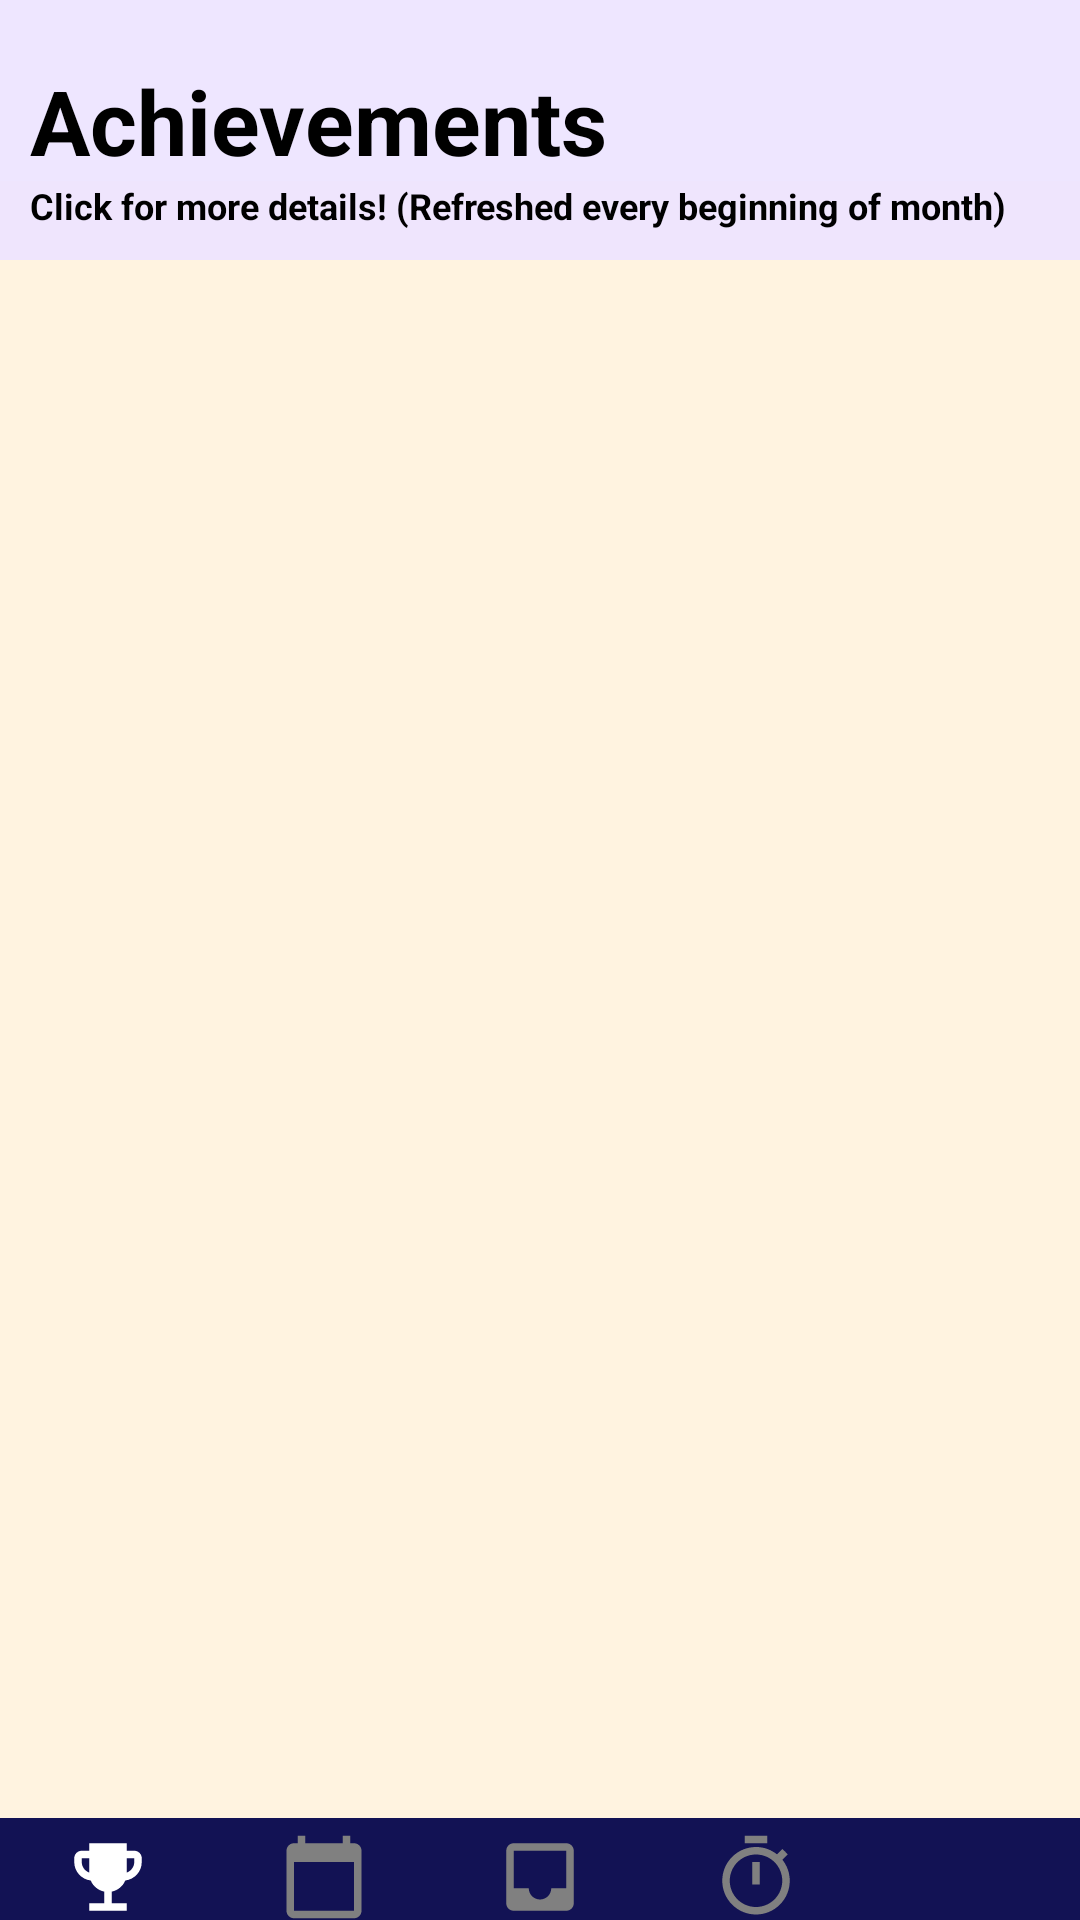

Icons on this 1080 × 1920 Android screen, each with the point to tap as point (x, y):
box: point (540, 1877)
calendar: point (324, 1877)
clock: point (756, 1875)
rewards: point (108, 1877)
